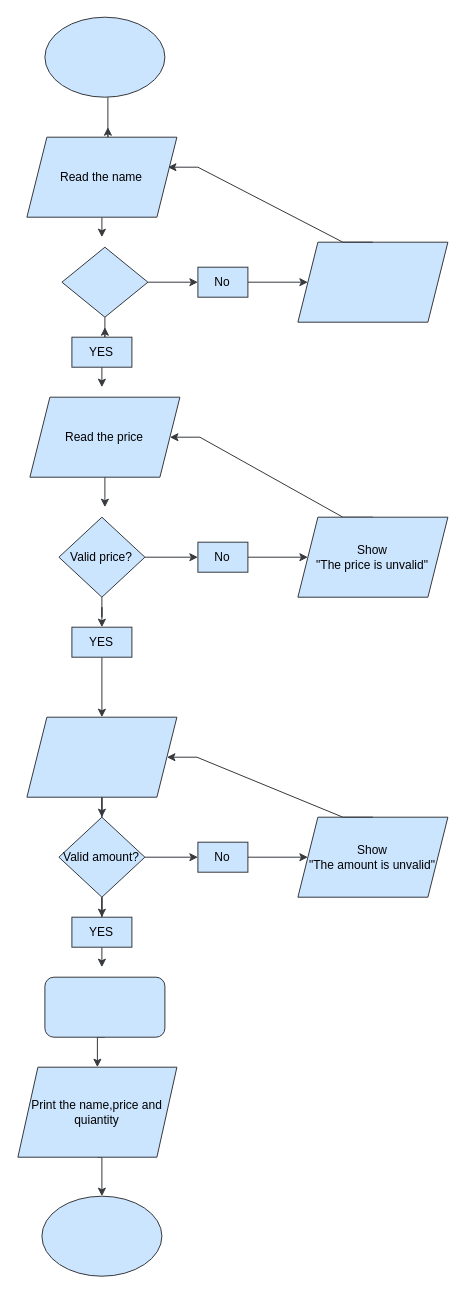
Some shapes in this 465 by 1294 pixel diagram are drawn without their labels. Here are the shapes that lost their labels. From the top down, the box of each, then its label:
(44, 16, 165, 97): START
(61, 246, 148, 317): Valid name?
(297, 241, 448, 322): Show "The name is unvalid"
(26, 716, 177, 797): Read the quantity
(44, 976, 165, 1037): calculates the final cost
(41, 1195, 162, 1276): end
